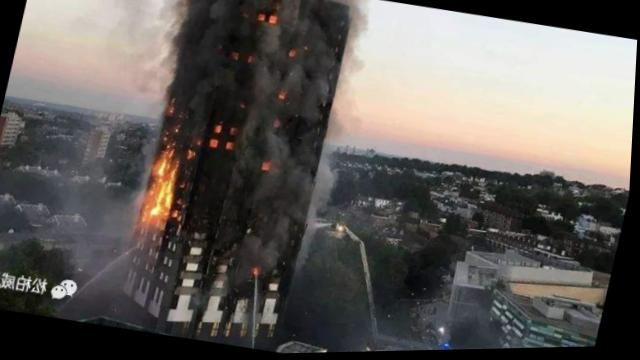fire: (140, 127, 208, 228), (208, 117, 246, 155), (248, 1, 288, 28), (284, 41, 306, 64), (261, 156, 277, 176), (251, 262, 265, 279), (279, 86, 294, 101)
